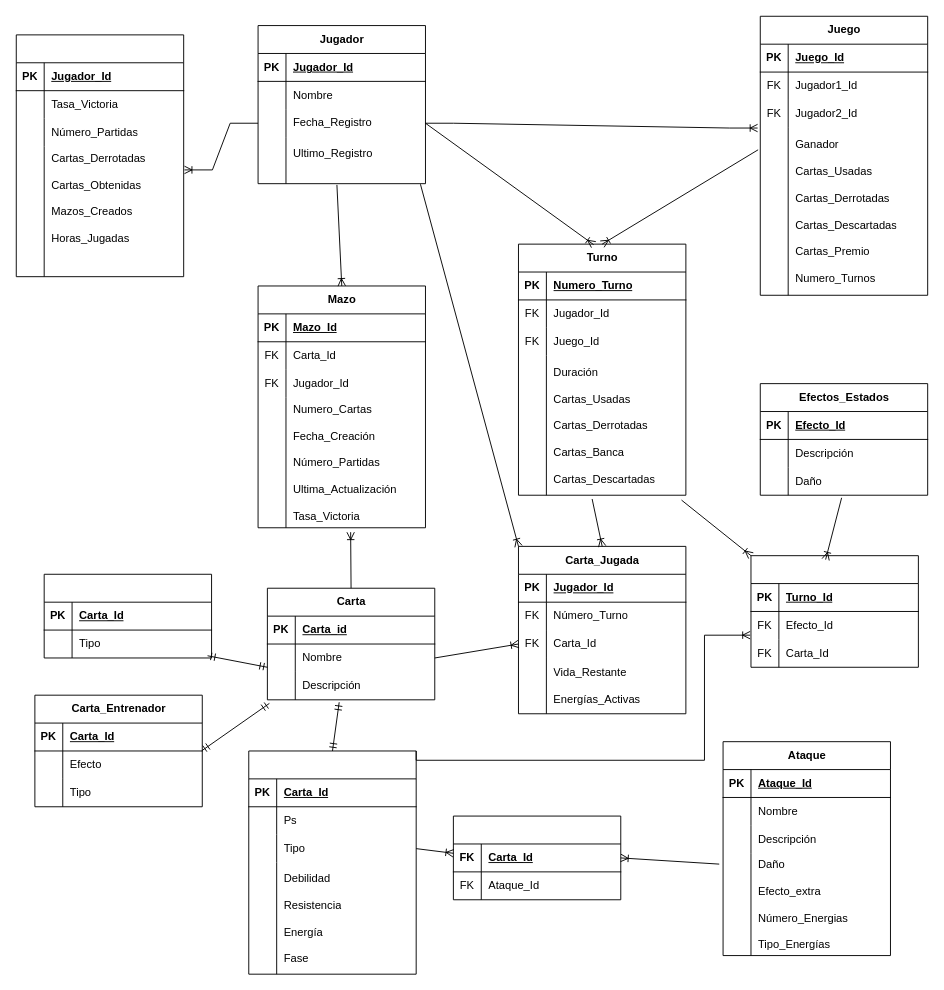
This 944x990 diagram has some shape labels left out. Here are the shapes that lost their labels. From the top down, the box of each, then its label:
(15, 34, 184, 277): Estadisticas
(43, 573, 212, 658): Carta_Energia
(750, 555, 918, 667): Carta_Afligida
(248, 750, 416, 974): Carta_Pokemon
(452, 815, 621, 900): Ataques_Pokemon
